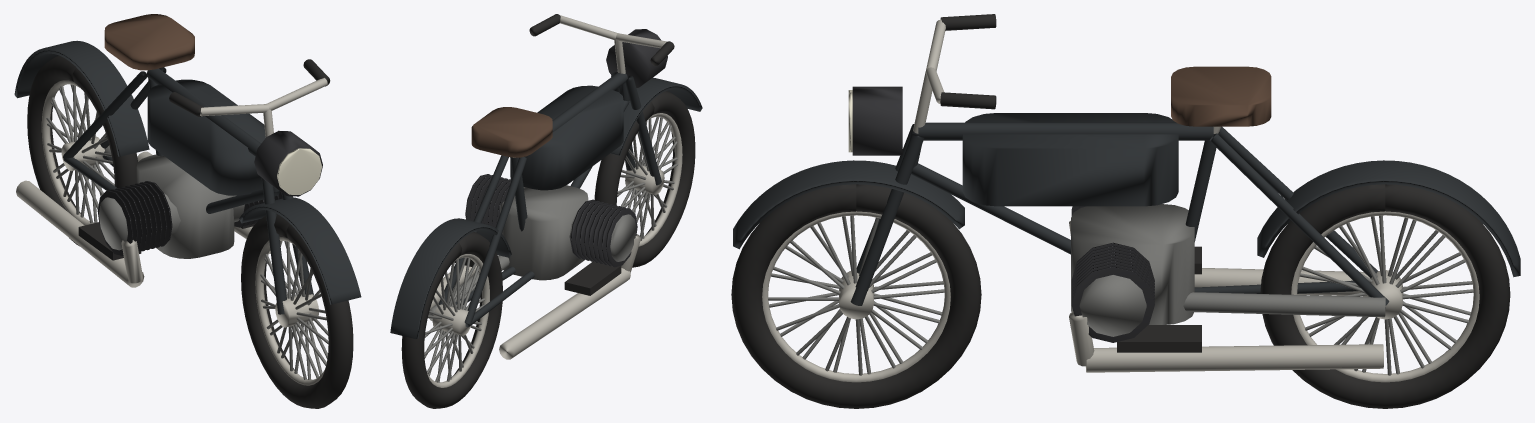
Rendered from boxermotorrad.glb.
3 views of the same model, side by side, from view 1: azimuth 30°, elevation 25°; view 2: azimuth 150°, elevation 25°; view 3: azimuth 270°, elevation 25° (orthographic). The views are drawn at different scales.
Parts seen in each view (by area): view 1: Modell, Vorderrad, Hinterrad; view 2: Modell, Hinterrad, Vorderrad; view 3: Modell, Vorderrad, Hinterrad.
Part boxes in pixels (bbox=[...]): Modell: bbox=[14, 14, 361, 314]; Vorderrad: bbox=[241, 214, 353, 408]; Hinterrad: bbox=[27, 55, 137, 246]; Modell: bbox=[390, 14, 702, 359]; Hinterrad: bbox=[401, 232, 502, 408]; Vorderrad: bbox=[594, 91, 695, 267]; Modell: bbox=[733, 14, 1520, 372]; Vorderrad: bbox=[731, 184, 981, 408]; Hinterrad: bbox=[1260, 184, 1510, 408].
Bounding box in the file's own units: 0.6286 × 1.01 × 2.04.
